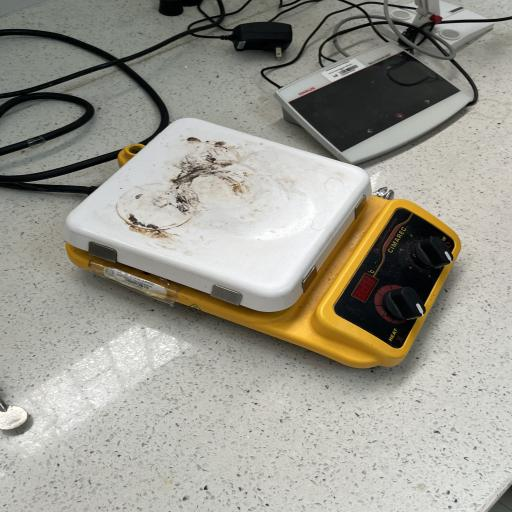Plancha_Agitacion_Cimarec: (55, 111, 462, 384)
